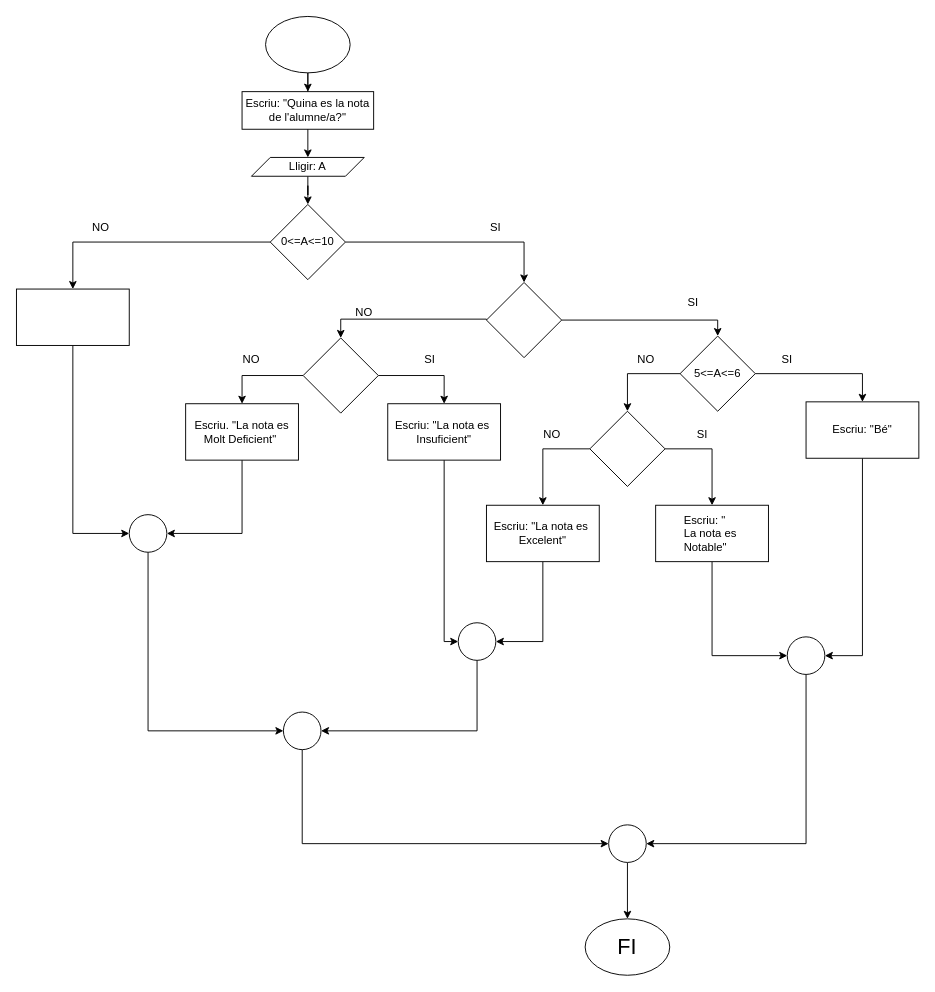
This 935x992 diagram has some shape labels left out. The centre of each missing label's shape, as x and y in pixels:
"3<=A<5" belongs at point (340, 375).
"6<A<=9" belongs at point (627, 448).
"A>=5" belongs at point (524, 320).
"Escriu: Error" belongs at point (72, 316).
"Inici" belongs at point (307, 44).
